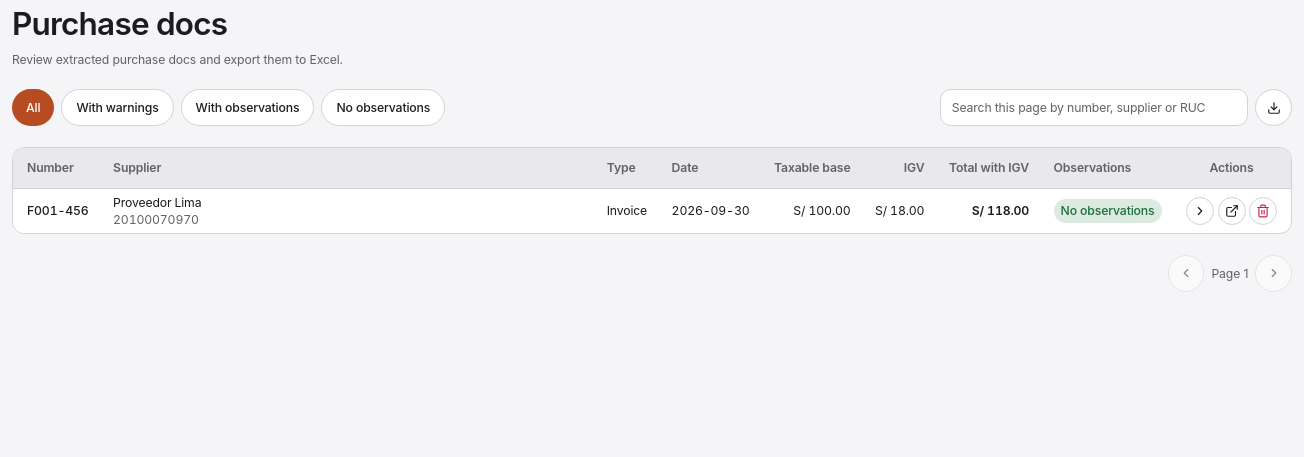
pills request filtered rows and the removed observation report stays absent
Expected: the link "F001-456" is shown, [27,203,89,218]
Click the button "With warnings".
click(118, 108)  # box [61,89,174,126]
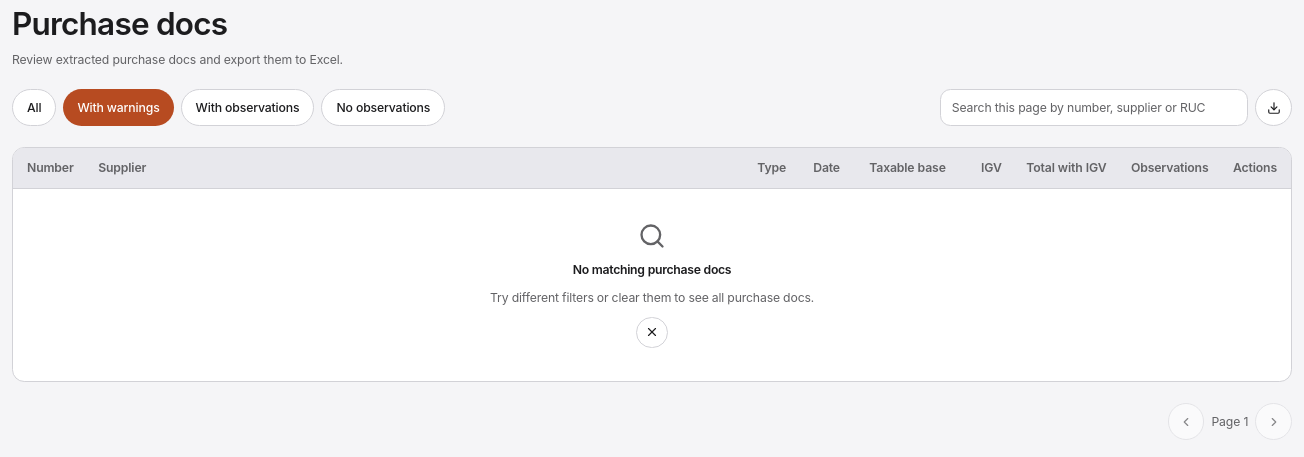
Now the button named "Clear filters" is shown
Now the link "F001-456" is gone
Click the button named "Clear filters".
click(652, 332)  # box [636,316,668,348]
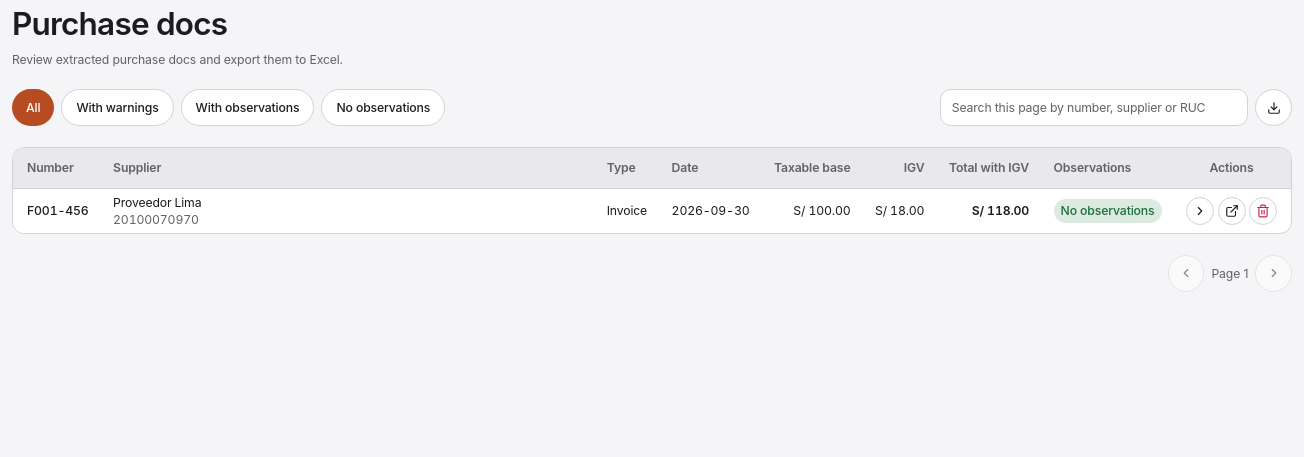
Now the link "F001-456" is shown, box [27,203,89,218]
